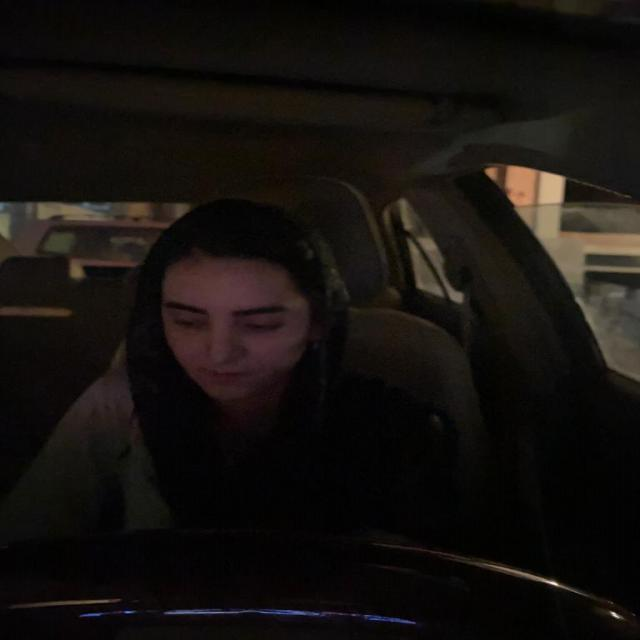person: (136, 196, 338, 414)
